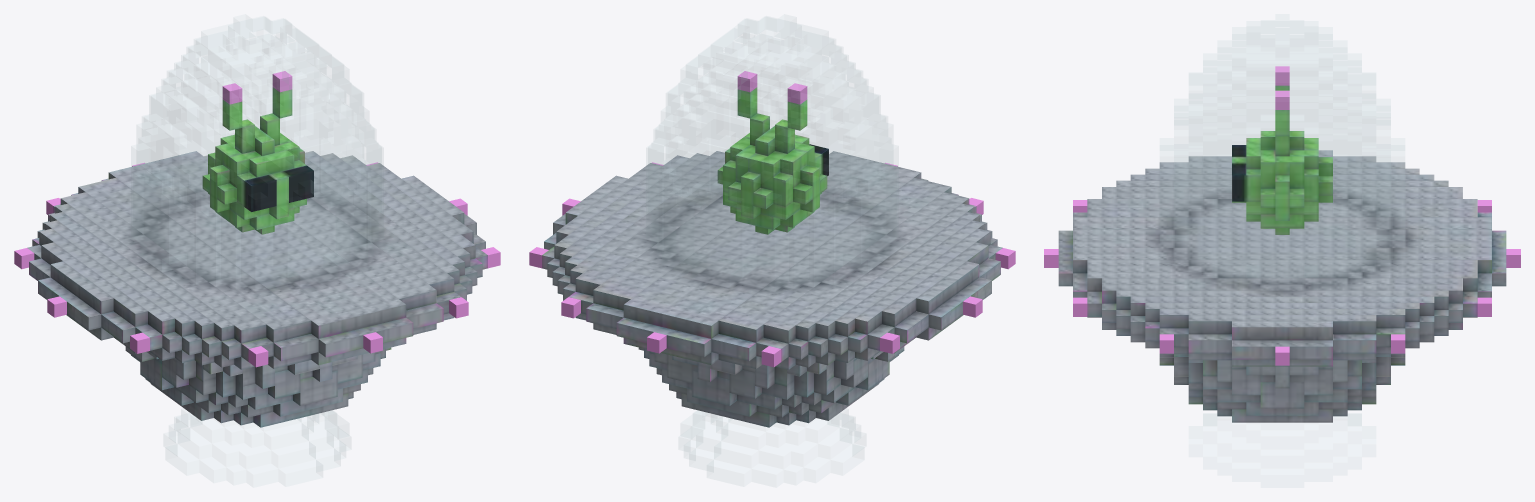
Rendered from ufo.glb.
3 renders of one model, left to right at view 1: azimuth 30°, elevation 25°; view 2: azimuth 150°, elevation 25°; view 3: azimuth 270°, elevation 25°, orthographic.
Parts seen in each view (by area): view 1: Body.016, Glass.002, Glow.015; view 2: Body.016, Glass.002, Glow.015; view 3: Body.016, Glass.002, Glow.015.
Part boxes in pixels (<box>): Body.016: <box>27,87,487,427</box>; Glass.002: <box>131,14,383,486</box>; Glow.015: <box>14,71,500,367</box>; Body.016: <box>542,87,1002,427</box>; Glass.002: <box>646,14,898,486</box>; Glow.015: <box>529,71,1015,367</box>; Body.016: <box>1058,85,1506,422</box>; Glass.002: <box>1160,14,1404,487</box>; Glow.015: <box>1044,66,1520,365</box>.
Size of the model in its own units: 4.95 by 4.8 by 4.95.
3 materials, 1 textured.
